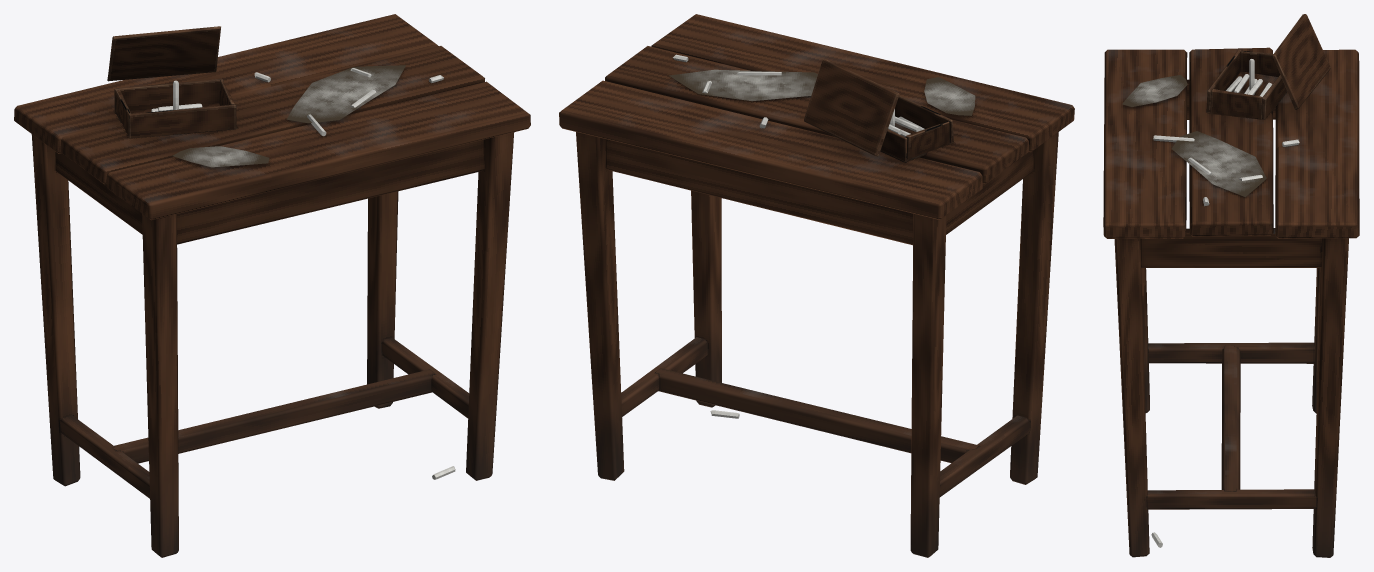
File: chalktable.glb
The picture shows the model from 3 angles, left to right: view 1: azimuth 30°, elevation 25°; view 2: azimuth 150°, elevation 25°; view 3: azimuth 270°, elevation 25°; orthographic projection. The views are drawn at different scales.
Parts seen in each view (by area): view 1: ChalkTable; view 2: ChalkTable; view 3: ChalkTable.
Boxes of the visible parts, box(x1,y1,x2,y2) form: ChalkTable: box(14, 14, 530, 557); ChalkTable: box(559, 14, 1074, 557); ChalkTable: box(1103, 14, 1359, 557).
Bounding box in the file's own units: 0.8033 × 0.8874 × 0.496.
1 material, 1 textured.
